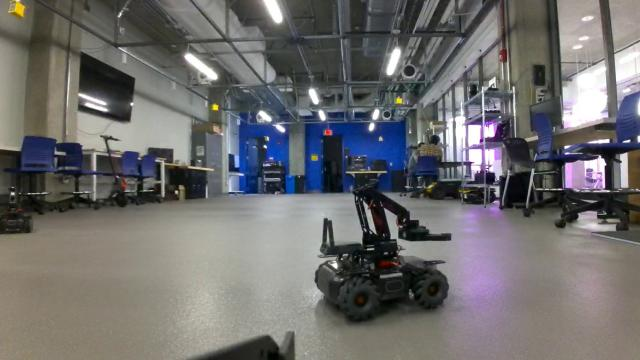robot: (308, 171, 459, 324)
